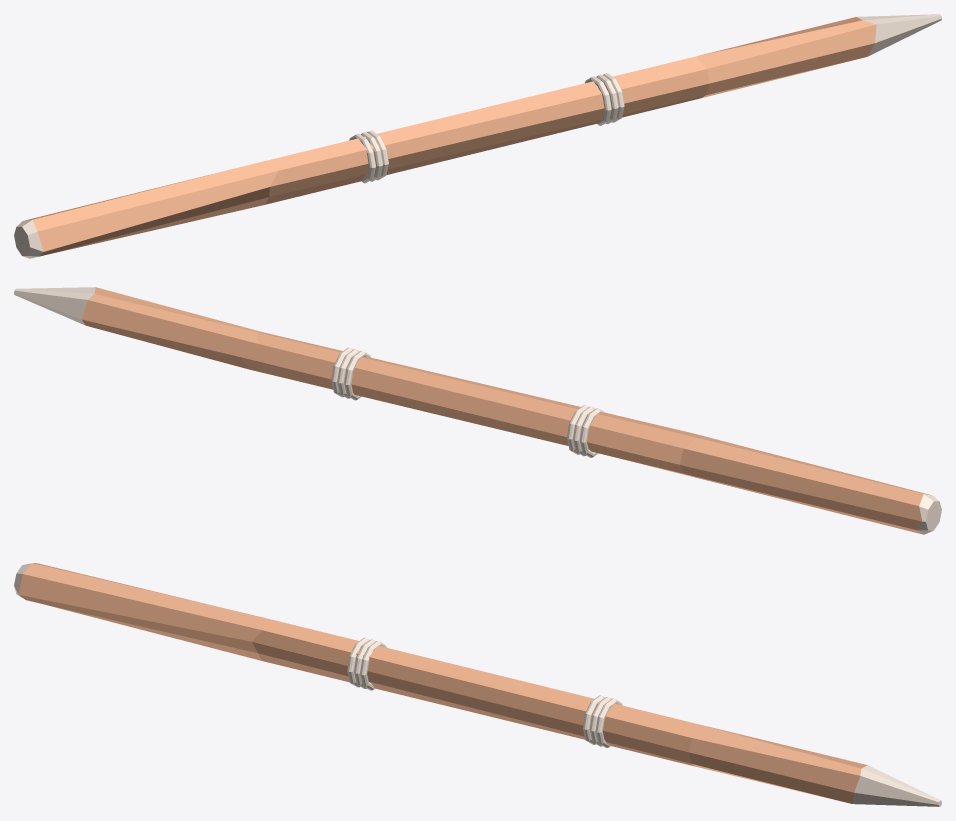
File: SpearModel.fbx
The picture shows the model from 3 angles, top to bottom: view 1: azimuth 30°, elevation 25°; view 2: azimuth 150°, elevation 25°; view 3: azimuth 330°, elevation 25°; orthographic projection.
Visible parts, largest first — view 1: Spear; view 2: Spear; view 3: Spear.
Boxes of the visible parts, bbox=[...] form: Spear: bbox=[14, 14, 941, 258]; Spear: bbox=[14, 287, 941, 534]; Spear: bbox=[14, 563, 941, 806].
Bounding box in the file's own units: 257 × 11.8 × 12.41.
